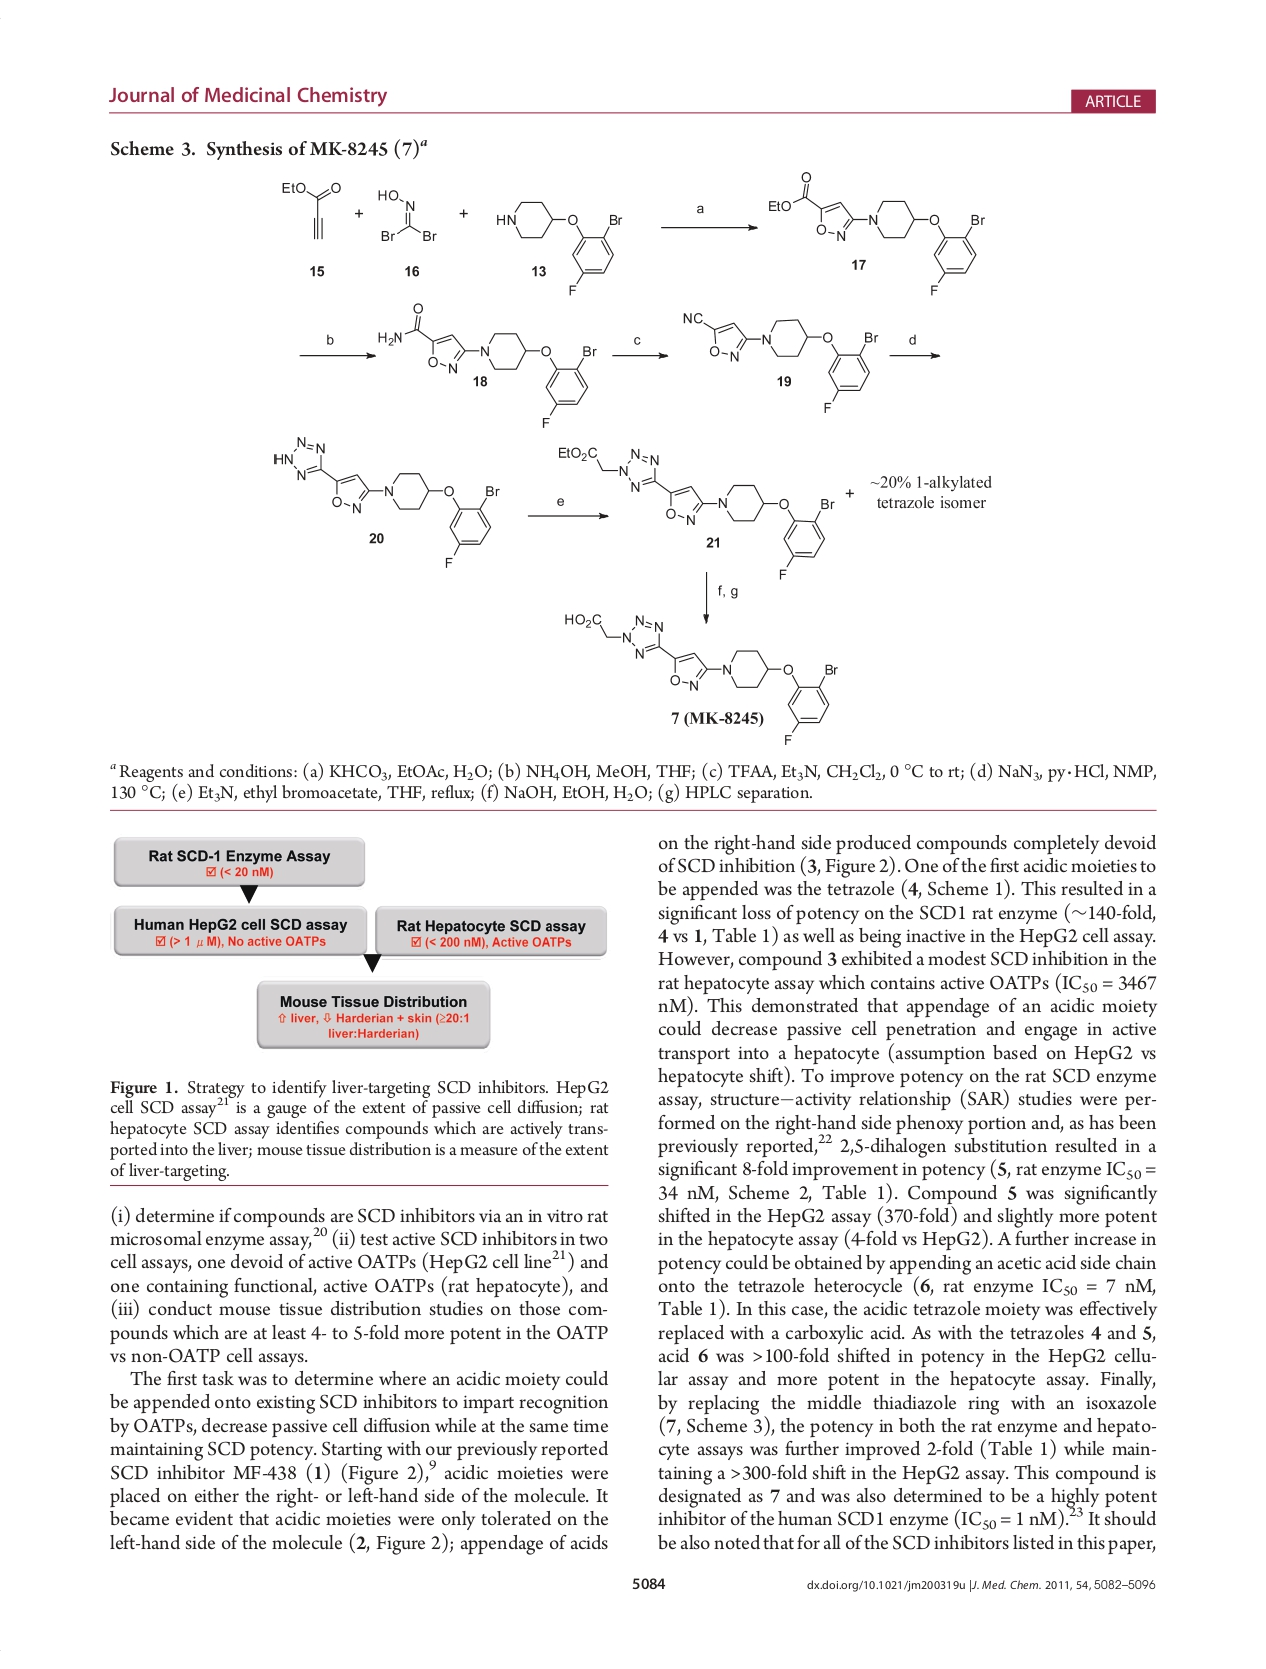exist_molecular: (555, 444, 836, 581), (563, 609, 840, 746), (271, 436, 503, 569), (765, 168, 988, 301), (375, 299, 598, 431), (678, 305, 880, 414), (491, 198, 626, 297), (278, 178, 344, 242), (372, 184, 440, 246)
